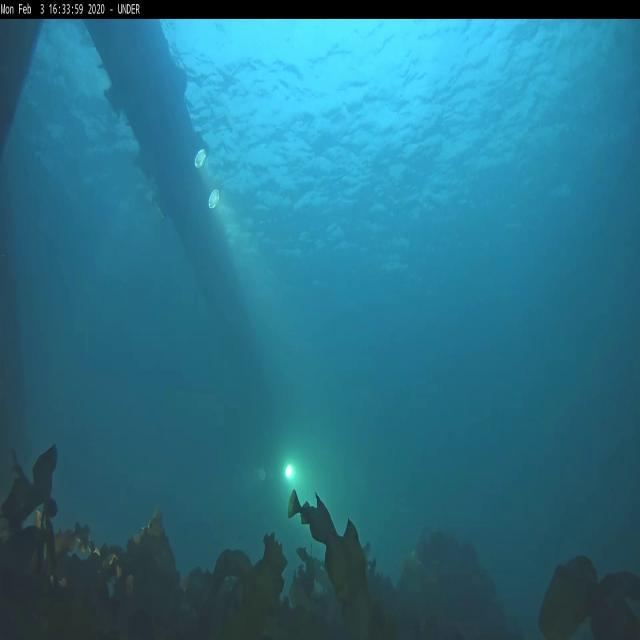fish: (288, 486, 312, 530)
